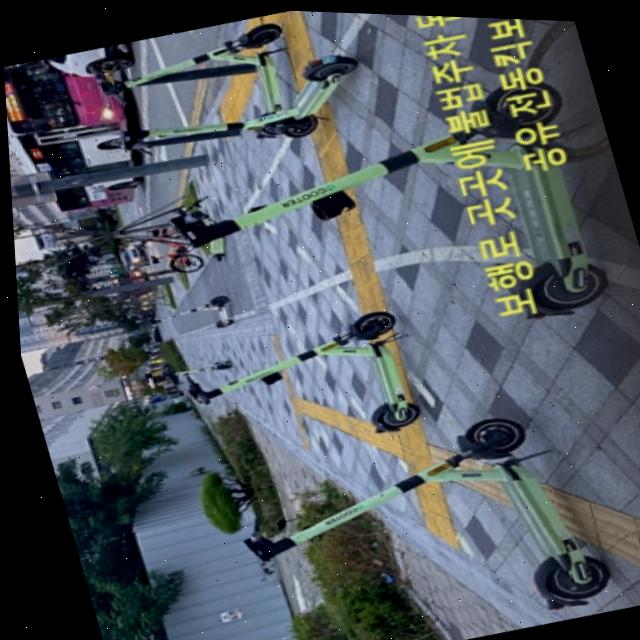kickboard_no: (470, 403, 604, 611), (79, 3, 316, 102), (334, 285, 439, 430), (256, 49, 370, 145), (134, 281, 240, 350)
tactile_paving: (332, 210, 388, 287), (290, 399, 373, 447)
